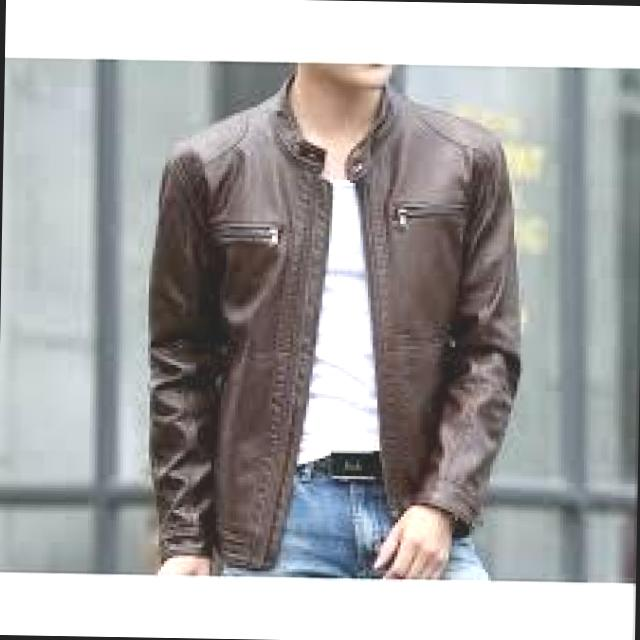jacket: (132, 82, 554, 559)
